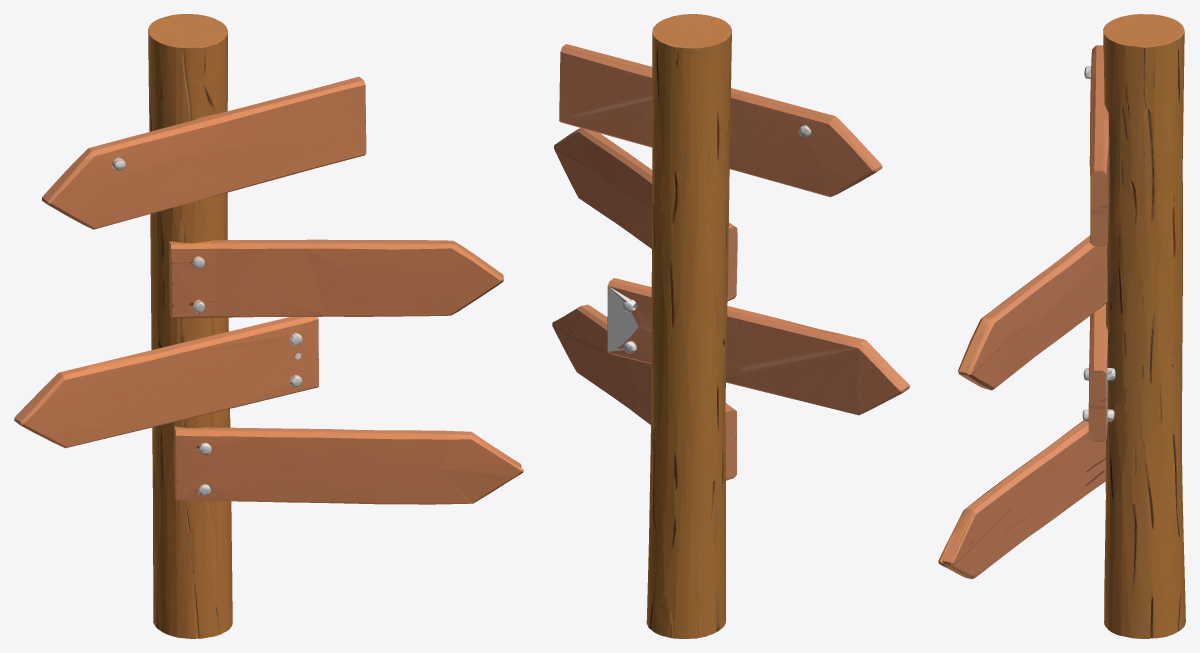
The model's file is signpost.glb.
3 renders of one model, left to right at view 1: azimuth 30°, elevation 25°; view 2: azimuth 150°, elevation 25°; view 3: azimuth 270°, elevation 25°, orthographic.
Size of the model in its own units: 1.44 by 1.9 by 0.7243.
1 material, 1 textured.
